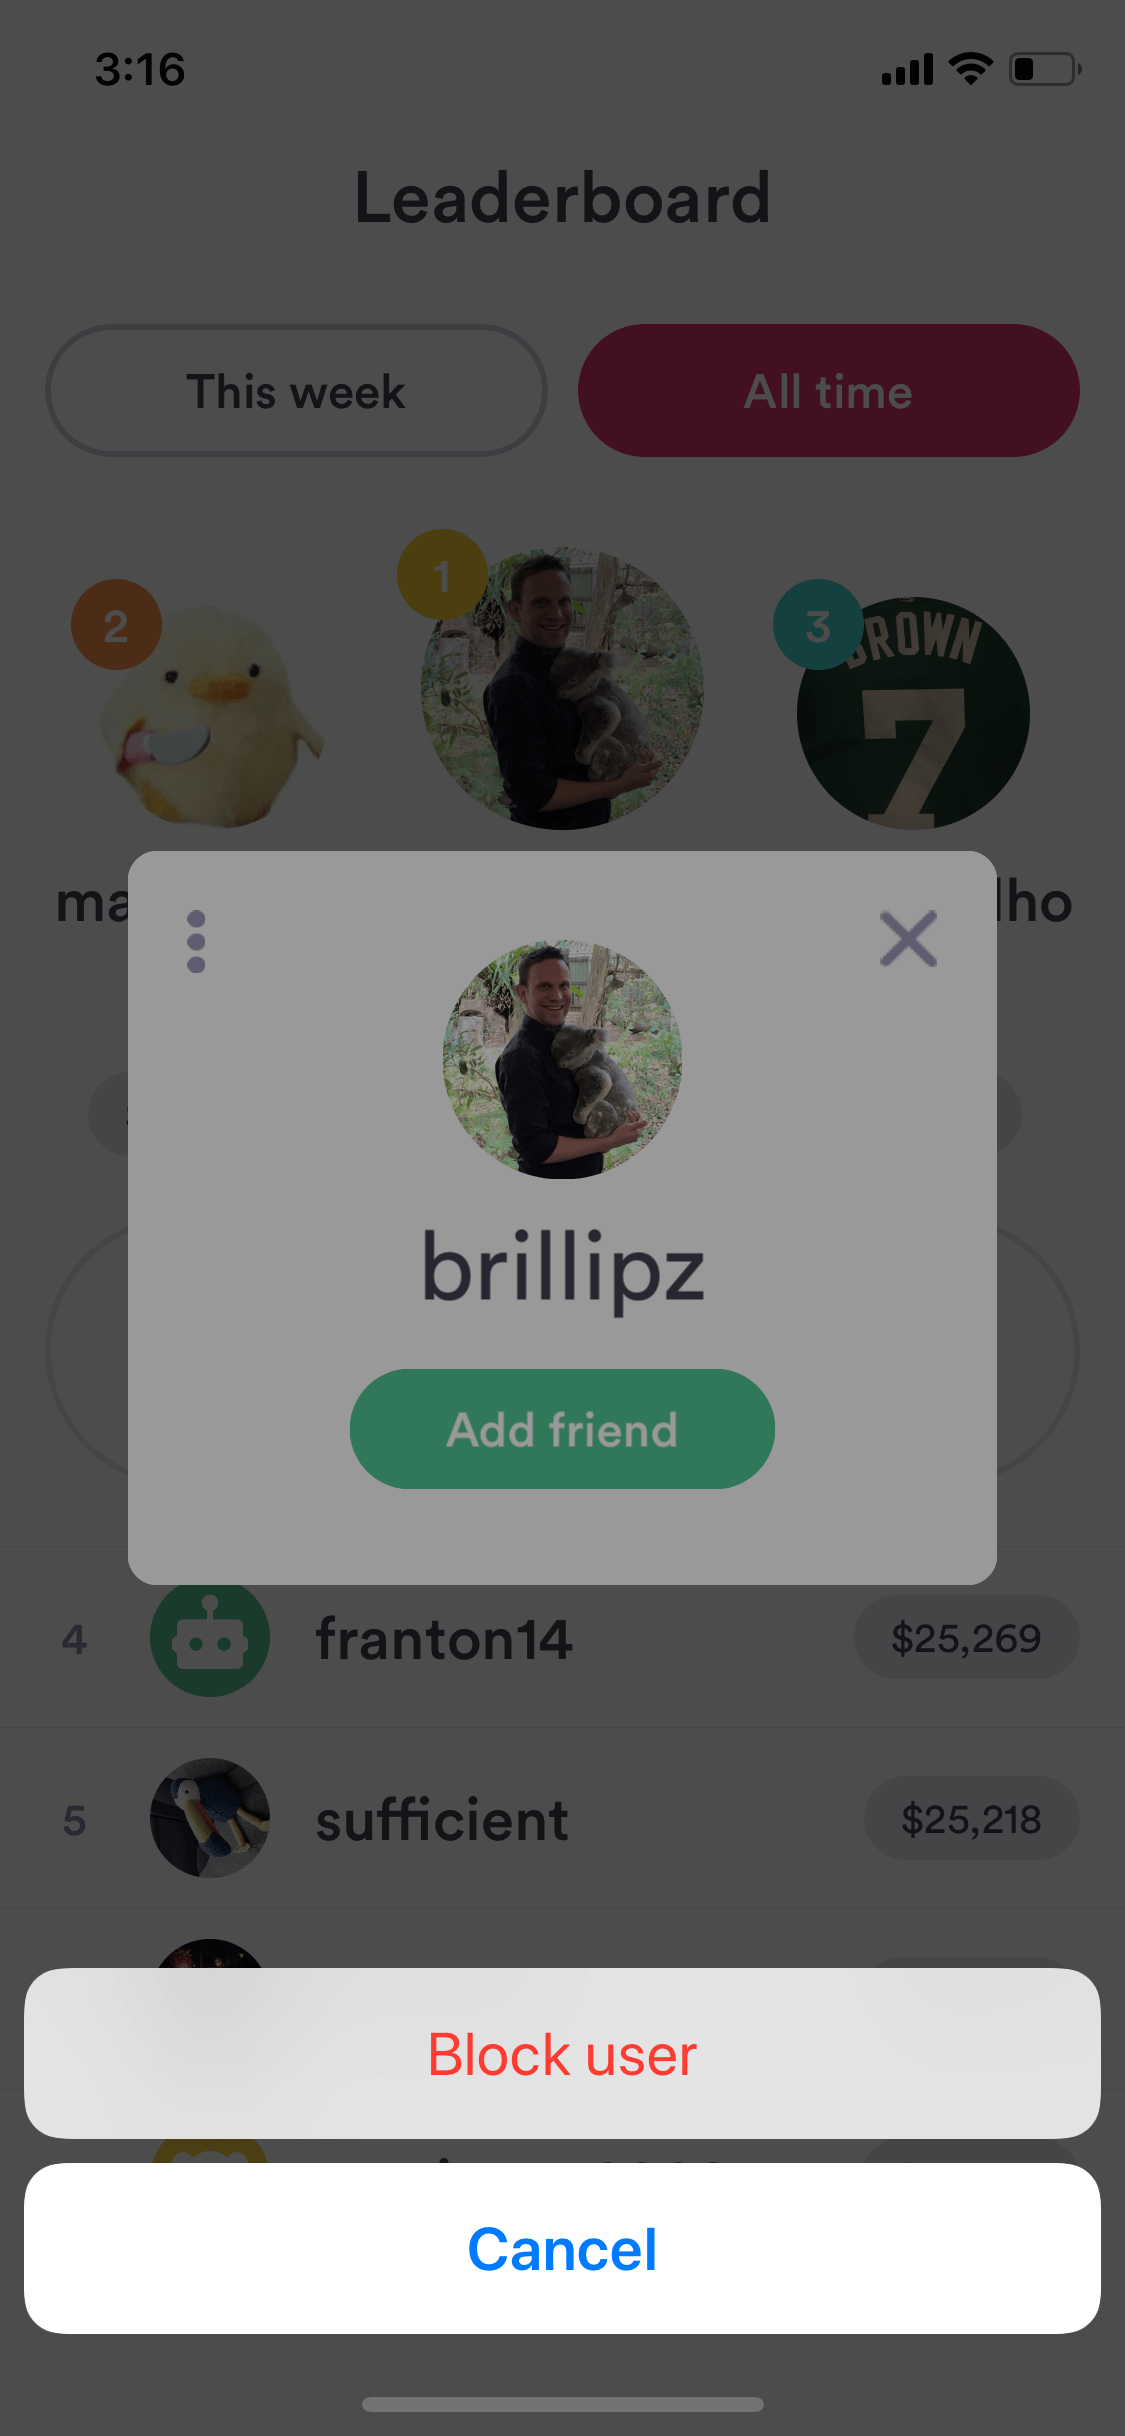Buttons: (573, 311, 1085, 471), (42, 311, 552, 466), (336, 1355, 780, 1498), (143, 884, 249, 988), (855, 886, 956, 983)
